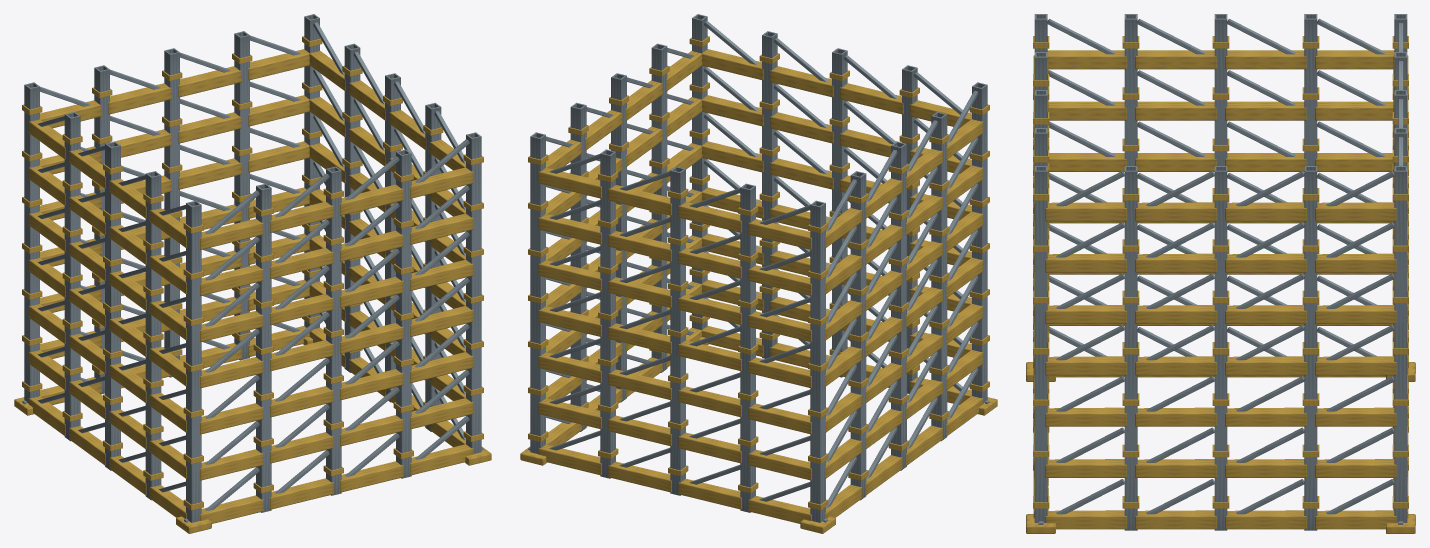
The picture shows the model from 3 angles, left to right: view 1: azimuth 30°, elevation 25°; view 2: azimuth 150°, elevation 25°; view 3: azimuth 270°, elevation 25°; orthographic projection. The views are drawn at different scales.
Visible parts, largest first — view 1: Tier 0 side 0 post 0, Tier 0 side 1 post 0, Tier 0 side 0 post 2, Tier 0 side 0 post 3, Tier 0 side 0 post 1, Tier 0 side 3 post 1, Tier 0 side 3 post 3, Tier 0 side 3 post 0, Tier 0 side 3 post 2, Tier 0 side 2 post 2, Tier 0 side 2 post 1, Tier 0 side 1 post 3 (+83 smaller); view 2: Tier 0 side 3 post 0, Tier 0 side 2 post 0, Tier 0 side 2 post 1, Tier 0 side 2 post 2, Tier 0 side 2 post 3, Tier 0 side 3 post 3, Tier 0 side 3 post 1, Tier 0 side 0 post 0, Tier 0 side 3 post 2, Tier 0 side 0 post 3, Tier 0 side 1 post 1, Tier 0 side 0 post 2 (+90 smaller); view 3: Tier 0 side 1 post 0, Tier 0 side 2 post 0, Tier 0 side 1 post 1, Tier 0 side 1 post 3, Tier 0 side 1 post 2, Tier 0 side 3 post 1, Tier 0 side 3 post 2, Tier 0 side 3 post 3, Tier 0 bay 3-6-1 service deck, Tier 0 bay 3-6-2 service deck, Tier 0 bay 1-6-0 service deck, Tier 0 bay 1-6-1 service deck (+75 smaller).
Part boxes in pixels (x1=…): Tier 0 side 0 post 0: x1=186, y1=200, x2=201, y2=522; Tier 0 side 1 post 0: x1=466, y1=132, x2=481, y2=453; Tier 0 side 0 post 2: x1=326, y1=166, x2=341, y2=495; Tier 0 side 0 post 3: x1=396, y1=149, x2=411, y2=478; Tier 0 side 0 post 1: x1=256, y1=183, x2=271, y2=512; Tier 0 side 3 post 1: x1=64, y1=112, x2=80, y2=441; Tier 0 side 3 post 3: x1=145, y1=171, x2=161, y2=500; Tier 0 side 3 post 0: x1=24, y1=82, x2=39, y2=403; Tier 0 side 3 post 2: x1=105, y1=141, x2=120, y2=470; Tier 0 side 2 post 2: x1=164, y1=48, x2=179, y2=377; Tier 0 side 2 post 1: x1=234, y1=31, x2=249, y2=360; Tier 0 side 1 post 3: x1=344, y1=43, x2=360, y2=372; Tier 0 side 3 post 0: x1=810, y1=200, x2=825, y2=522; Tier 0 side 2 post 0: x1=530, y1=132, x2=545, y2=453; Tier 0 side 2 post 1: x1=600, y1=149, x2=615, y2=478; Tier 0 side 2 post 2: x1=670, y1=166, x2=685, y2=495; Tier 0 side 2 post 3: x1=740, y1=183, x2=755, y2=512; Tier 0 side 3 post 3: x1=931, y1=112, x2=947, y2=441; Tier 0 side 3 post 1: x1=850, y1=171, x2=866, y2=500; Tier 0 side 0 post 0: x1=972, y1=82, x2=987, y2=403; Tier 0 side 3 post 2: x1=891, y1=141, x2=906, y2=470; Tier 0 side 0 post 3: x1=762, y1=31, x2=777, y2=358; Tier 0 side 1 post 1: x1=651, y1=43, x2=667, y2=372; Tier 0 side 0 post 2: x1=832, y1=48, x2=847, y2=377; Tier 0 side 1 post 0: x1=1034, y1=166, x2=1047, y2=522; Tier 0 side 2 post 0: x1=1394, y1=166, x2=1407, y2=522; Tier 0 side 1 post 1: x1=1124, y1=166, x2=1137, y2=530; Tier 0 side 1 post 3: x1=1304, y1=166, x2=1317, y2=530; Tier 0 side 1 post 2: x1=1214, y1=166, x2=1227, y2=530; Tier 0 side 3 post 1: x1=1304, y1=14, x2=1317, y2=165; Tier 0 side 3 post 2: x1=1214, y1=14, x2=1227, y2=165; Tier 0 side 3 post 3: x1=1124, y1=14, x2=1137, y2=165; Tier 0 bay 3-6-1 service deck: x1=1225, y1=50, x2=1306, y2=69; Tier 0 bay 3-6-2 service deck: x1=1135, y1=50, x2=1216, y2=69; Tier 0 bay 1-6-0 service deck: x1=1045, y1=202, x2=1126, y2=221; Tier 0 bay 1-6-1 service deck: x1=1135, y1=202, x2=1216, y2=221.
Size of the model in its own units: 1.95 by 1.98 by 1.95.
2 materials, 2 textured.
